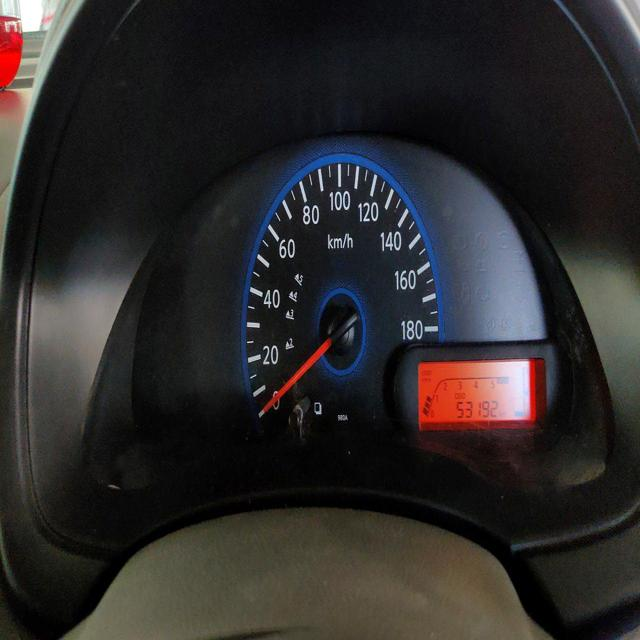odometer: (454, 398, 500, 420)
